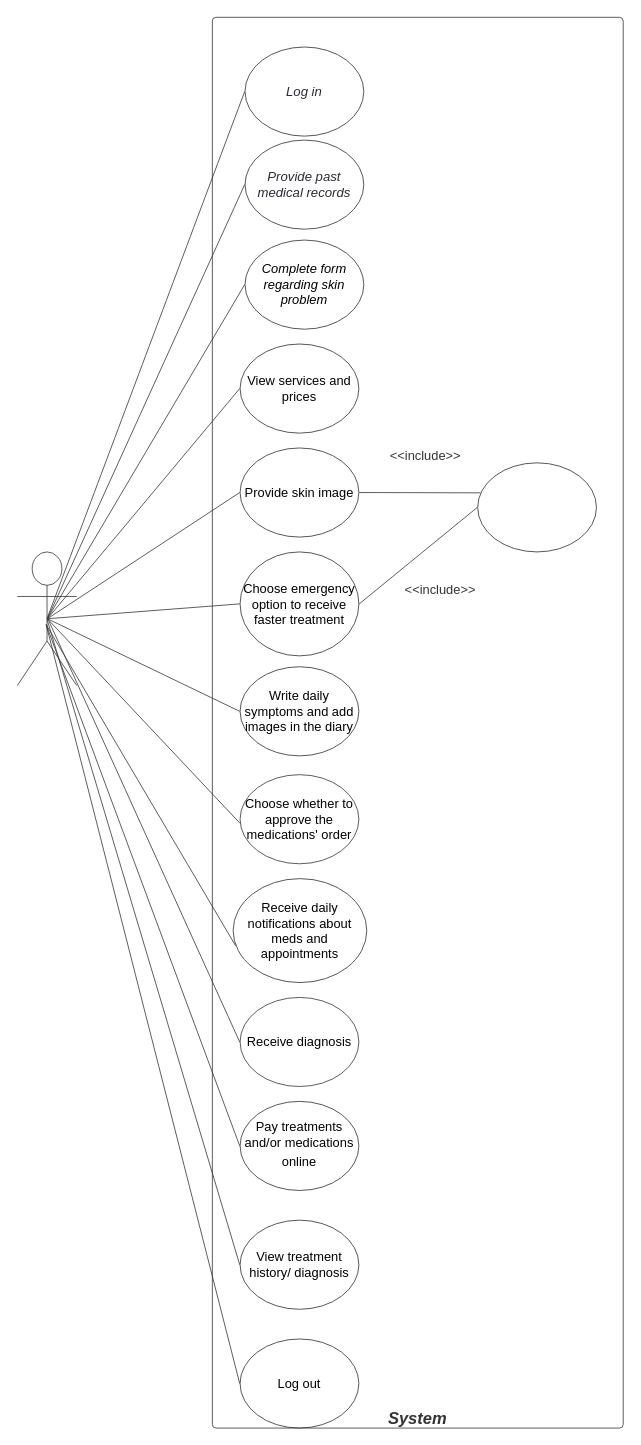
This 641x1445 diagram has some shape labels left out. The shapes that lost their labels are listed below. From the top down, each one's centre as x and y in pixels, then its label:
the point at 536,507: Book an appointment
the point at 46,618: Patient
